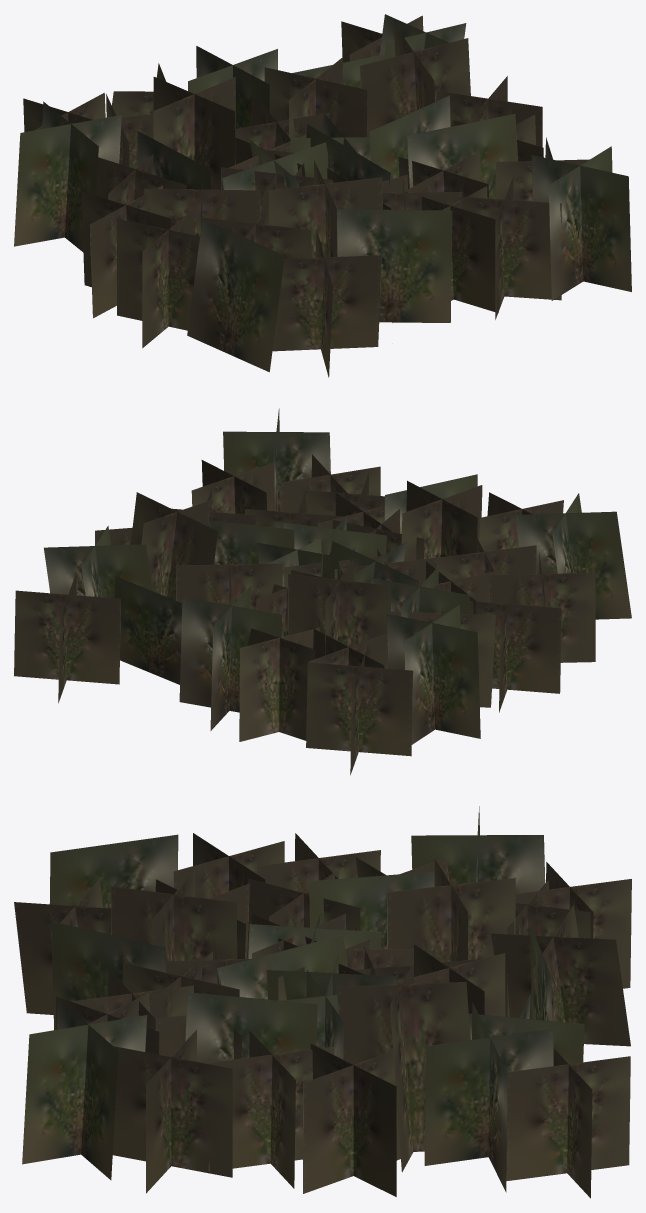
The model's file is GrassPatchBig01b.obj.
3 renders of one model, top to bottom at view 1: azimuth 30°, elevation 25°; view 2: azimuth 150°, elevation 25°; view 3: azimuth 270°, elevation 25°, orthographic. The views are drawn at different scales.
Visible parts, largest first — view 1: GrassPatchBig01b; view 2: GrassPatchBig01b; view 3: GrassPatchBig01b.
Boxes of the visible parts, left/top/right/bottom form: GrassPatchBig01b: left=14, top=14, right=631, bottom=377; GrassPatchBig01b: left=14, top=408, right=631, bottom=775; GrassPatchBig01b: left=14, top=806, right=631, bottom=1198.
Size of the model in its own units: 4.67 by 1.48 by 4.66.
